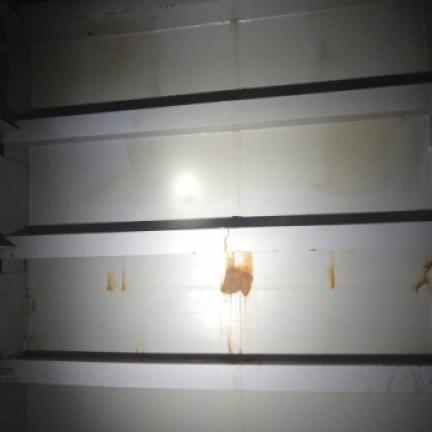karat: (216, 269, 259, 299)
